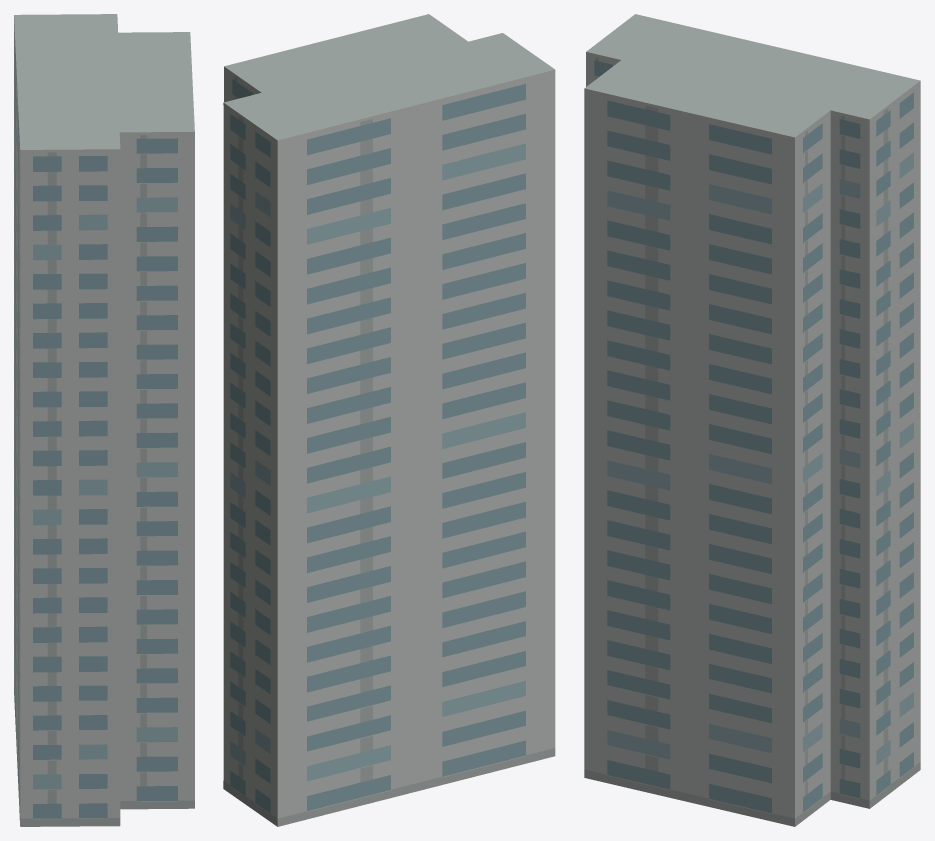
File: residential-82e8e7e1-0171-4f34-85f4-319d3526ed75.glb
3 renders of one model, left to right at view 1: azimuth 30°, elevation 25°; view 2: azimuth 150°, elevation 25°; view 3: azimuth 270°, elevation 25°, orthographic.
Visible parts, largest first — view 1: residential-82e8e7e1-0171-4f34-85f4-319d3526ed75.tmp; view 2: residential-82e8e7e1-0171-4f34-85f4-319d3526ed75.tmp; view 3: residential-82e8e7e1-0171-4f34-85f4-319d3526ed75.tmp.
Boxes of the visible parts, bbox=[...] form: residential-82e8e7e1-0171-4f34-85f4-319d3526ed75.tmp: bbox=[14, 14, 194, 826]; residential-82e8e7e1-0171-4f34-85f4-319d3526ed75.tmp: bbox=[223, 14, 555, 826]; residential-82e8e7e1-0171-4f34-85f4-319d3526ed75.tmp: bbox=[584, 14, 920, 826].
Bounding box in the file's own units: 23.83 × 62 × 27.41.
